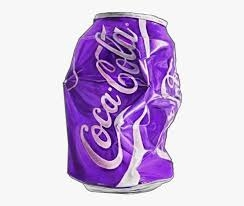metal: (57, 5, 186, 199)
